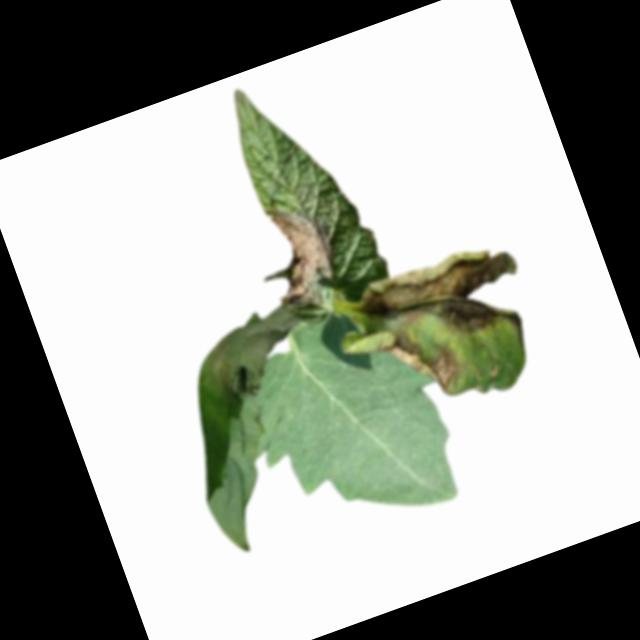Late_blight: (351, 233, 539, 380), (191, 303, 314, 409), (249, 194, 347, 313), (379, 311, 469, 409)
